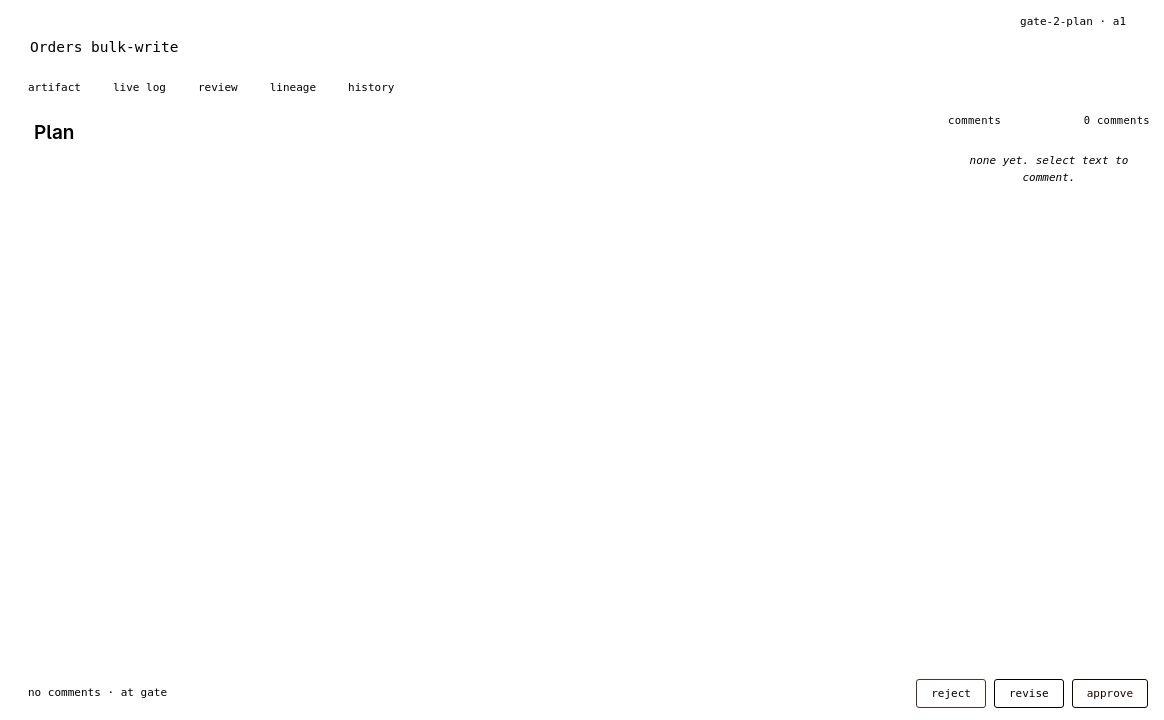
Scenario: CardDrawer › switches to the live log tab
The width and height of the screenshot is (1164, 720).
Click the tab "live log". click: (140, 88)
box: [97,72,182,103]
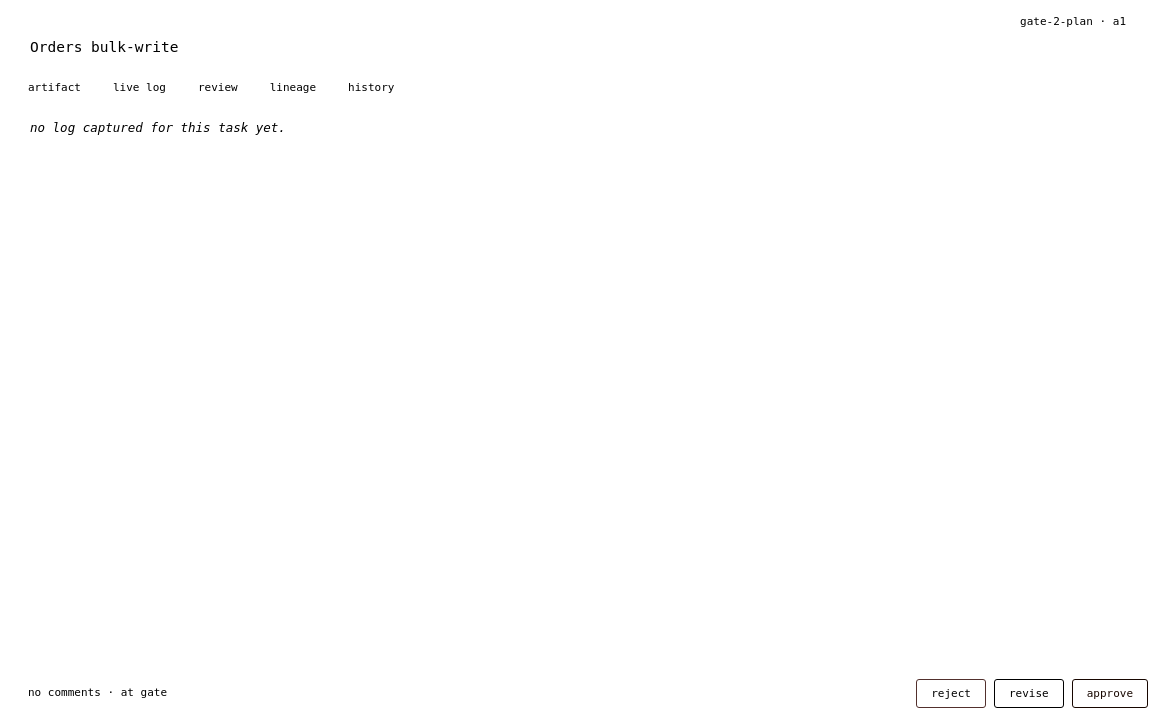
Expected: the text "no log captured for this task yet." is shown, [30,120,286,135]
